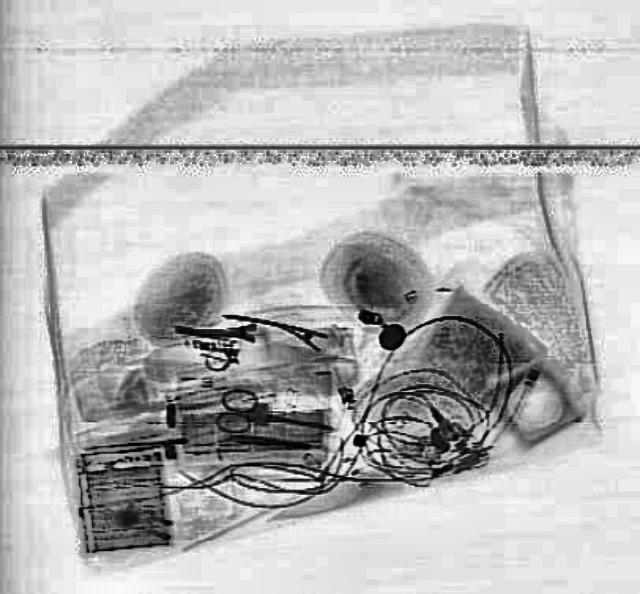Scissors: (210, 382, 334, 450)
